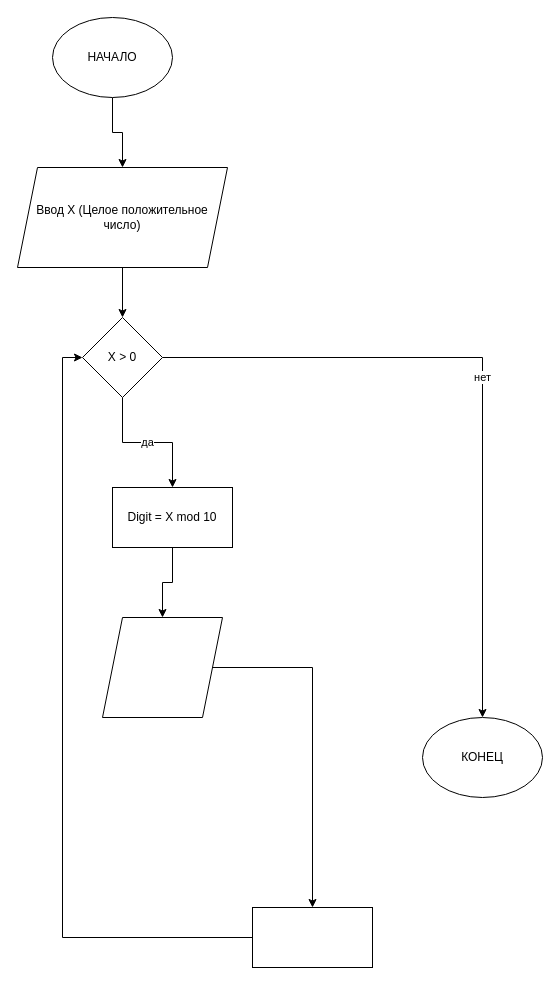
Some shapes in this 560 by 985 pixel diagram are drawn without their labels. Each missing label, with the box of its shape:
X = X / 10: (252, 906, 372, 968)
вывод: (102, 616, 222, 718)
